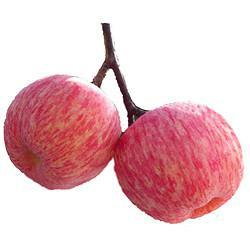apple: (114, 100, 243, 224), (3, 76, 120, 192)
